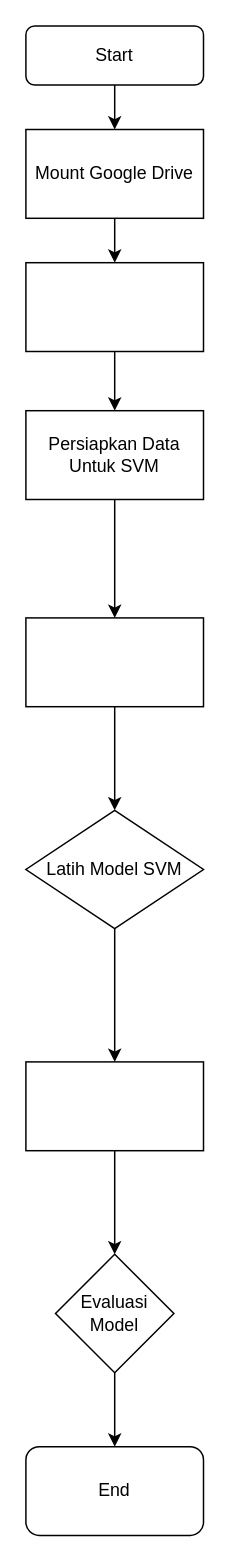
This 229x1561 diagram has some shape labels left out. Each missing label, with the centre of its shape:
Bagi Data ke dalam Set Pelatihan dan Pengujian: pixel 114 661
Melakukan Prediksi: pixel 114 1105
Muat Data: pixel 114 306
